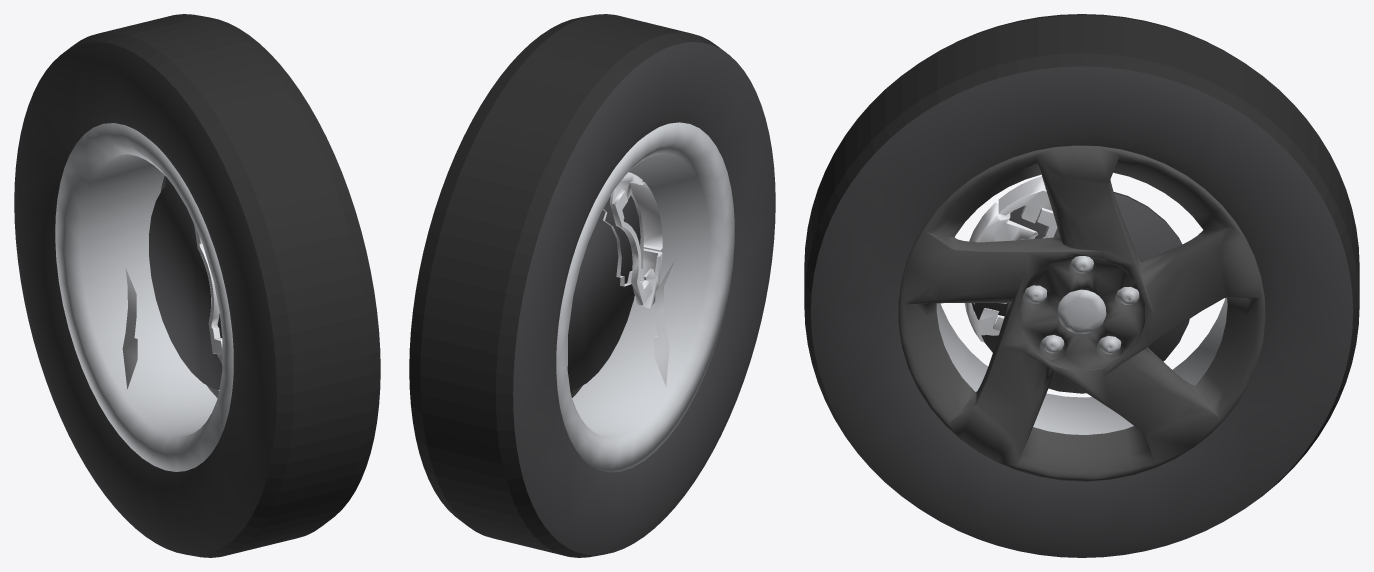
Rendered from patrulla_wheelLF.glb.
3 renders of one model, left to right at view 1: azimuth 30°, elevation 25°; view 2: azimuth 150°, elevation 25°; view 3: azimuth 270°, elevation 25°, orthographic. The views are drawn at different scales.
Visible parts, largest first — view 1: patrulla_wheelLF; view 2: patrulla_wheelLF; view 3: patrulla_wheelLF.
Part boxes in pixels (x1,y1,x2,y2): patrulla_wheelLF: (14, 14, 380, 557); patrulla_wheelLF: (409, 14, 775, 557); patrulla_wheelLF: (804, 14, 1359, 557).
Size of the model in its own units: 0.2142 by 0.7438 by 0.7438.
5 materials, 1 textured.
